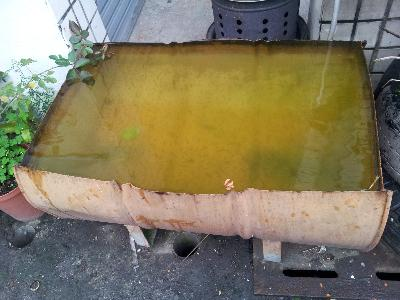box: (13, 37, 394, 253)
